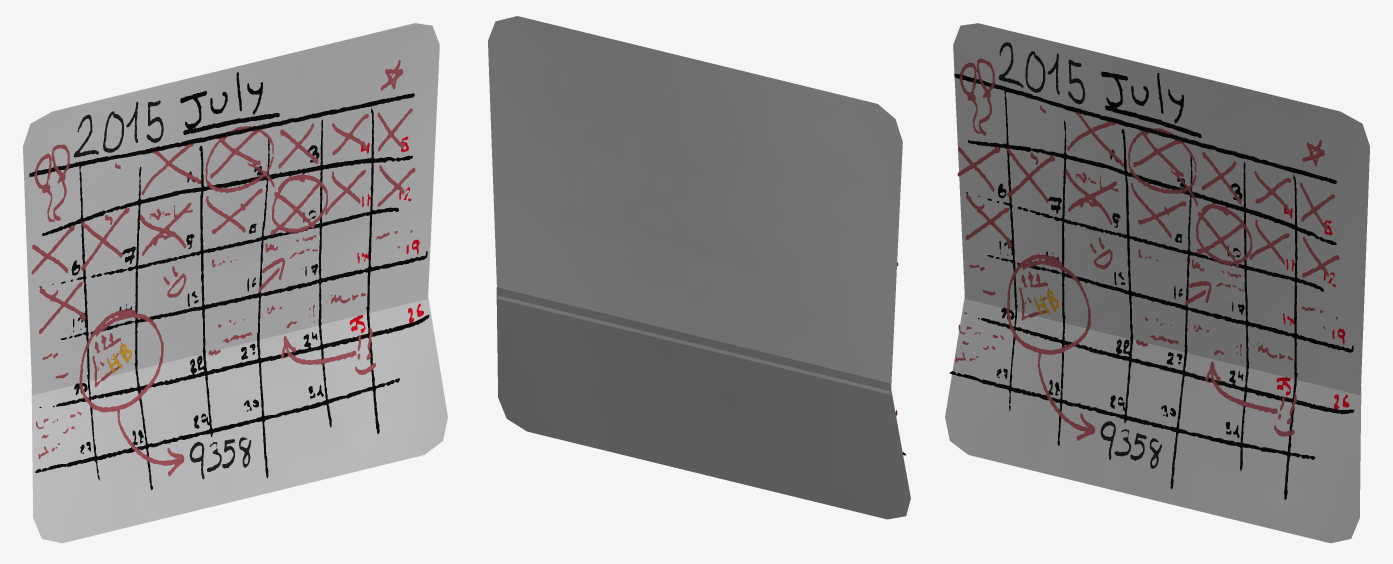
The model's file is calendario.fbx.
3 views of the same model, side by side, from view 1: azimuth 30°, elevation 25°; view 2: azimuth 150°, elevation 25°; view 3: azimuth 330°, elevation 25° (orthographic).
Visible parts, largest first — view 1: Calendario; view 2: Calendario; view 3: Calendario.
Part boxes in pixels (x1=…): Calendario: x1=23, y1=23, x2=447, y2=543; Calendario: x1=488, y1=16, x2=910, y2=519; Calendario: x1=945, y1=23, x2=1369, y2=543.
Size of the model in its own units: 62.55 by 62.93 by 6.51.
